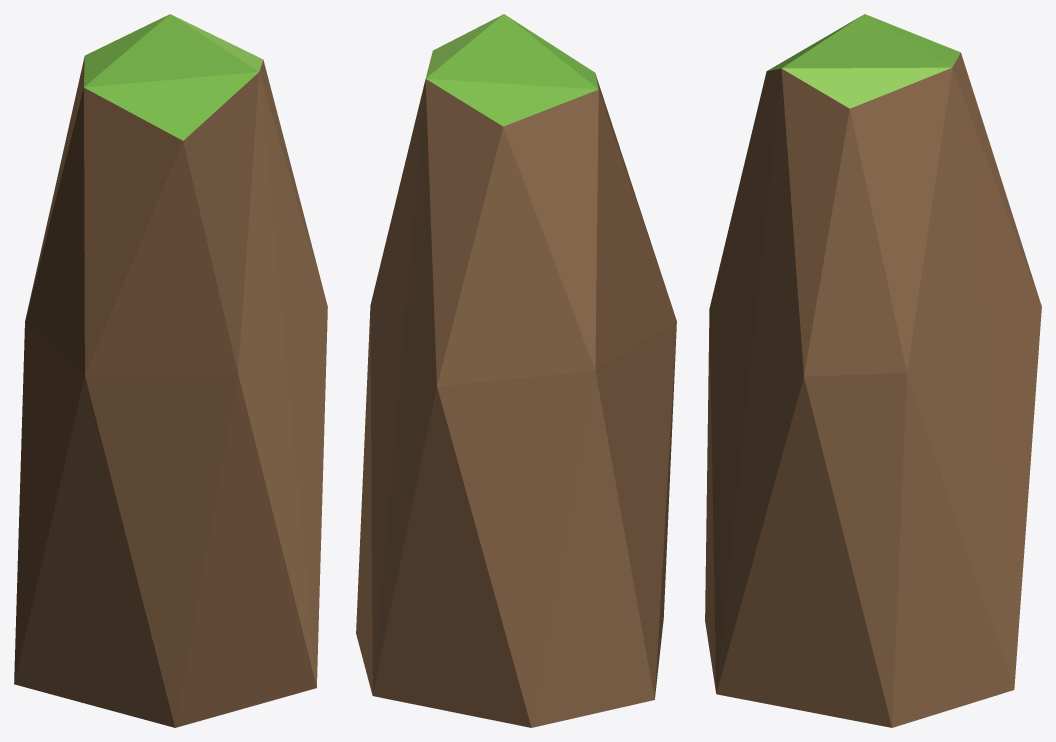
File: rock_tallD.glb
3 views of the same model, side by side, from view 1: azimuth 30°, elevation 25°; view 2: azimuth 150°, elevation 25°; view 3: azimuth 270°, elevation 25° (orthographic). The views are drawn at different scales.
Parts seen in each view (by area): view 1: rock_tallD; view 2: rock_tallD; view 3: rock_tallD.
Boxes of the visible parts, x1,y1,x2,y2 form: rock_tallD: (14, 14, 327, 727); rock_tallD: (356, 14, 676, 727); rock_tallD: (705, 14, 1041, 727).
Bounding box in the file's own units: 0.3827 × 0.7537 × 0.3754.
1 material, 1 textured.
